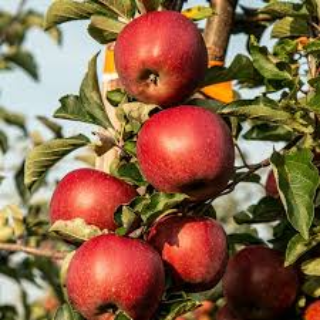tao: (112, 7, 209, 106), (133, 107, 238, 196), (64, 232, 164, 318)
